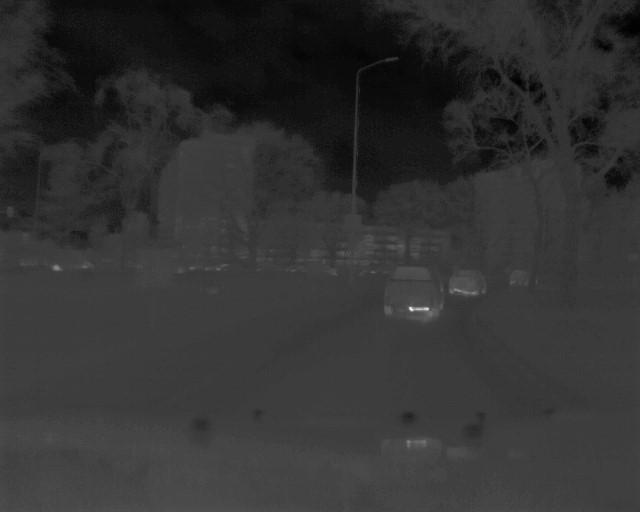car: (382, 260, 446, 322), (447, 266, 489, 298), (47, 255, 96, 274), (509, 267, 538, 290)
